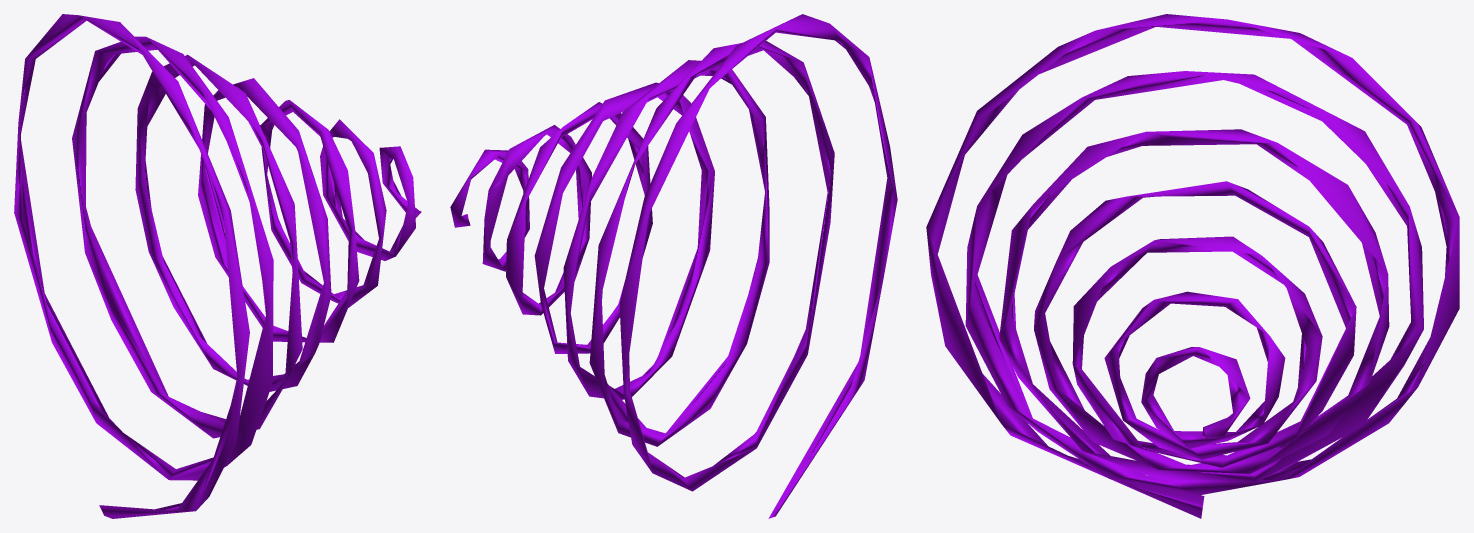
The model's file is confuse1.glb.
The picture shows the model from 3 angles, left to right: view 1: azimuth 30°, elevation 25°; view 2: azimuth 150°, elevation 25°; view 3: azimuth 270°, elevation 25°; orthographic projection. The views are drawn at different scales.
Parts seen in each view (by area): view 1: Spiral.002; view 2: Spiral.002; view 3: Spiral.002.
Boxes of the visible parts, box(x1,y1,x2,y2) form: Spiral.002: box(14, 14, 421, 518); Spiral.002: box(450, 14, 897, 518); Spiral.002: box(926, 14, 1459, 518).
Size of the model in its own units: 0.6542 by 0.9336 by 0.8853.
